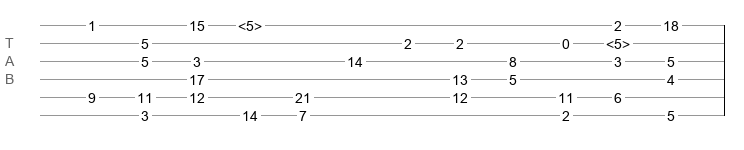0: (562, 36, 570, 46)
1: (88, 18, 96, 28)
11: (137, 90, 153, 100), (558, 90, 574, 100)
12: (189, 90, 205, 100), (452, 90, 468, 100)
13: (452, 72, 468, 82)
14: (242, 108, 258, 118), (347, 54, 363, 64)
15: (189, 18, 205, 28)
17: (189, 72, 205, 82)
18: (663, 18, 679, 28)
2: (404, 36, 412, 46), (456, 36, 464, 46), (562, 108, 570, 118), (614, 18, 622, 28)
21: (295, 90, 311, 100)
3: (141, 108, 149, 118), (193, 54, 201, 64), (614, 54, 622, 64)
4: (667, 72, 675, 82)
5: (141, 36, 149, 46), (141, 54, 149, 64), (509, 72, 517, 82), (667, 108, 675, 118), (667, 54, 675, 64)
6: (614, 90, 622, 100)
7: (299, 108, 307, 118)
8: (509, 54, 517, 64)
9: (88, 90, 96, 100)
harmonic: (238, 18, 262, 28), (606, 36, 630, 46)
